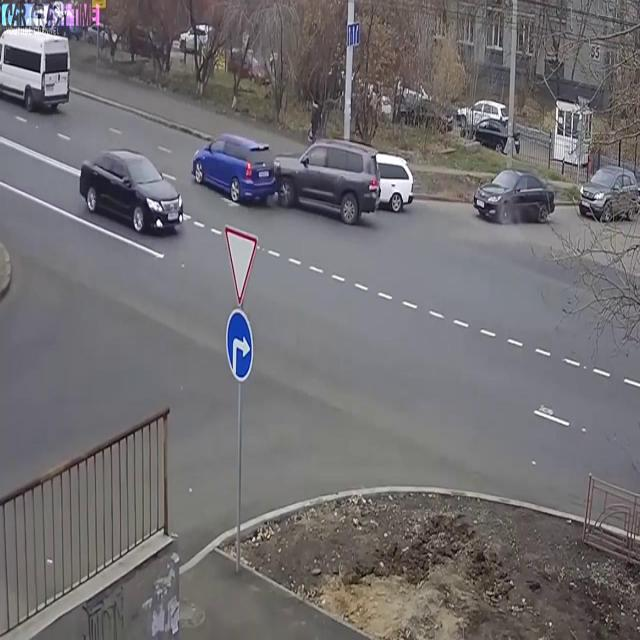accident: (189, 109, 385, 234)
